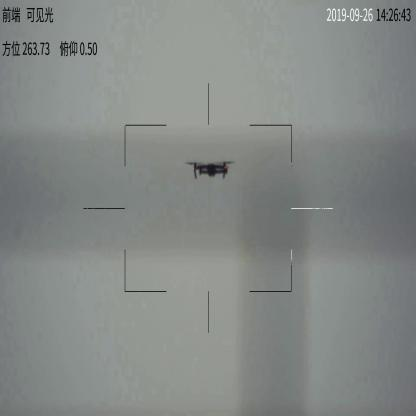uav: (184, 160, 236, 180)
